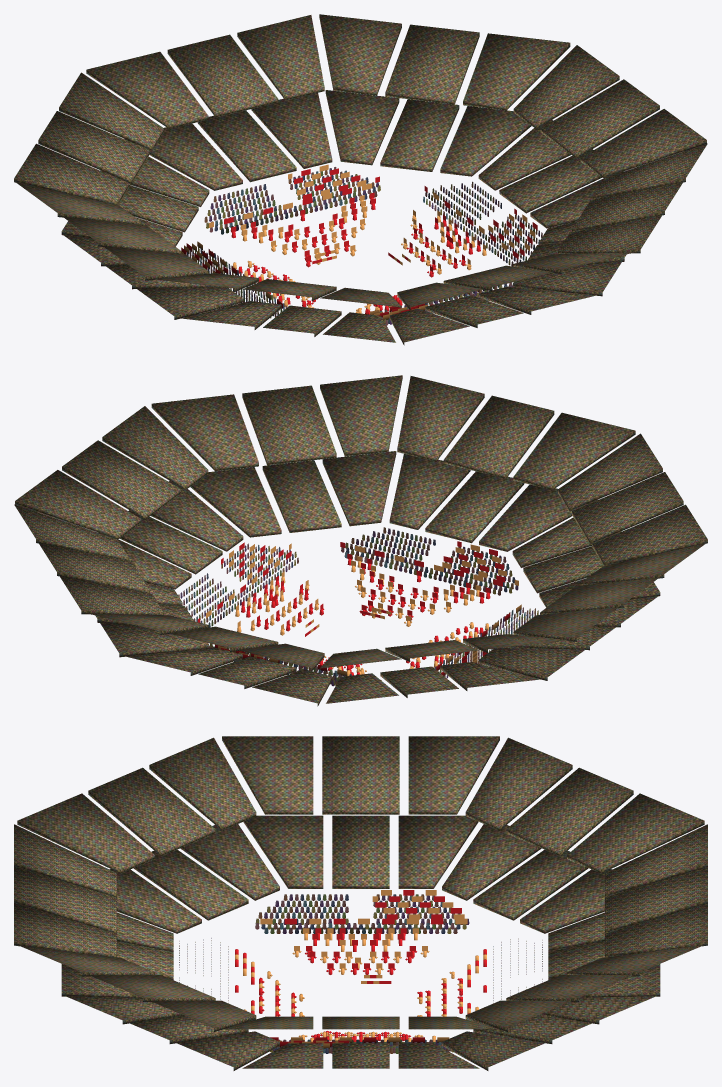
The model's file is box_avatar__box_avatarA.glb.
3 views of the same model, one above another, from view 1: azimuth 30°, elevation 25°; view 2: azimuth 150°, elevation 25°; view 3: azimuth 270°, elevation 25° (orthographic). The views are drawn at different scales.
Parts seen in each view (by area): view 1: polygon14, polygon13, polygon12, polygon9, polygon3, polygon0, polygon6, polygon2, polygon11, polygon5, polygon8; view 2: polygon14, polygon13, polygon12, polygon9, polygon3, polygon0, polygon6, polygon11, polygon2, polygon5, polygon8; view 3: polygon14, polygon13, polygon12, polygon9, polygon3, polygon0, polygon6.
Boxes of the visible parts, box(x1,y1,x2,y2) form: polygon14: box(14, 14, 707, 345); polygon13: box(187, 167, 542, 325); polygon12: box(181, 164, 537, 320); polygon9: box(232, 215, 471, 310); polygon3: box(238, 223, 465, 313); polygon0: box(231, 197, 480, 314); polygon6: box(241, 200, 486, 314); polygon2: box(231, 192, 479, 265); polygon11: box(268, 210, 470, 269); polygon5: box(258, 219, 464, 272); polygon8: box(241, 195, 485, 262); polygon14: box(14, 375, 707, 706); polygon13: box(178, 527, 540, 686); polygon12: box(197, 541, 521, 680); polygon9: box(237, 576, 483, 674); polygon3: box(264, 573, 489, 674); polygon0: box(241, 558, 490, 675); polygon6: box(235, 561, 484, 674); polygon11: box(238, 571, 437, 630); polygon2: box(242, 553, 490, 636); polygon5: box(265, 568, 450, 634); polygon8: box(236, 556, 484, 632); polygon14: box(14, 736, 707, 1070); polygon13: box(179, 894, 542, 1053); polygon12: box(260, 890, 467, 1048); polygon9: box(251, 933, 470, 1041); polygon3: box(251, 933, 470, 1041); polygon0: box(235, 945, 486, 1041); polygon6: box(235, 945, 486, 1041).
Size of the model in its own units: 774 by 162 by 774.
5 materials, 5 textured.
